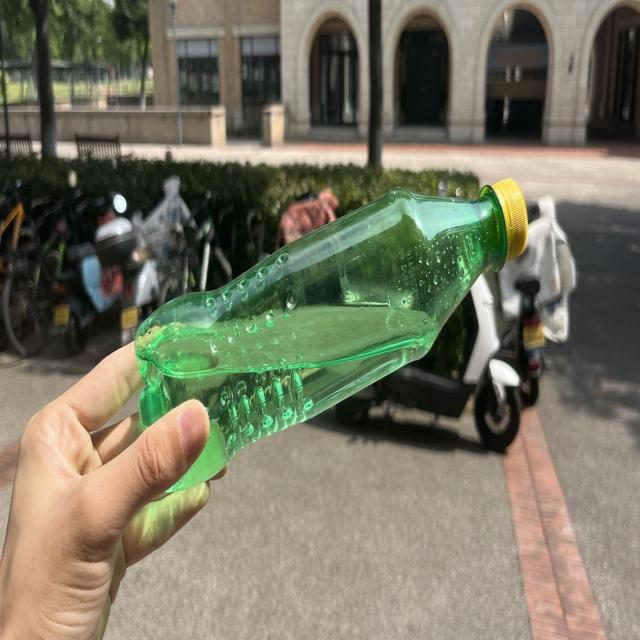medium: (134, 179, 526, 490)
